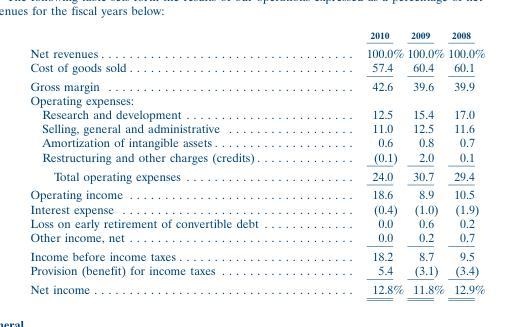table: (29, 28, 484, 296)
table column: (29, 28, 312, 296), (312, 28, 404, 296), (404, 28, 445, 296), (445, 28, 484, 296)
table column header: (29, 28, 484, 42)
table projected row header: (29, 92, 484, 106)
table row: (29, 165, 484, 184), (29, 42, 484, 59), (29, 59, 484, 76), (29, 184, 484, 201), (29, 229, 484, 246), (29, 262, 484, 279), (29, 279, 484, 296), (29, 76, 484, 92), (29, 149, 484, 165), (29, 246, 484, 262), (29, 120, 484, 135), (29, 28, 484, 42), (29, 92, 484, 106), (29, 106, 484, 120), (29, 135, 484, 149), (29, 201, 484, 215), (29, 215, 484, 229)
